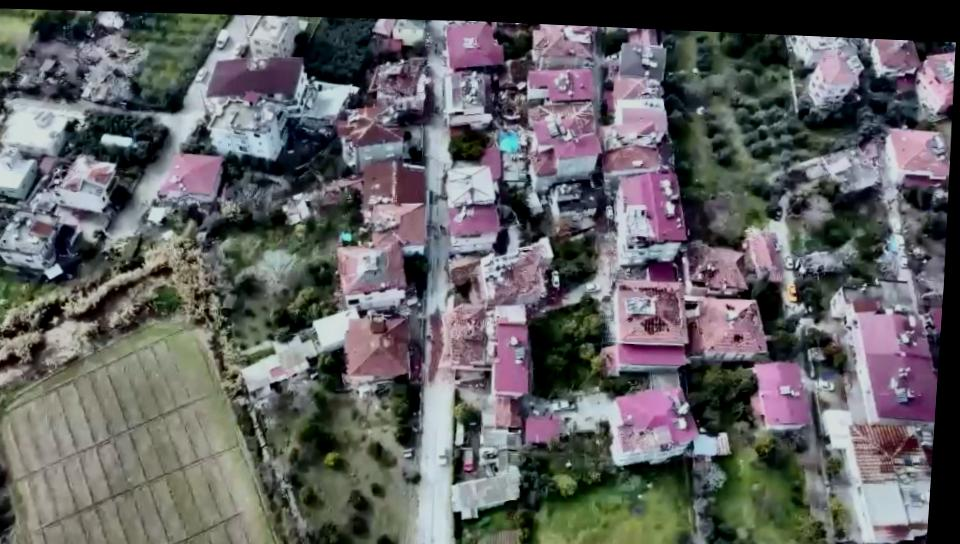kapali: (422, 296, 459, 401)
